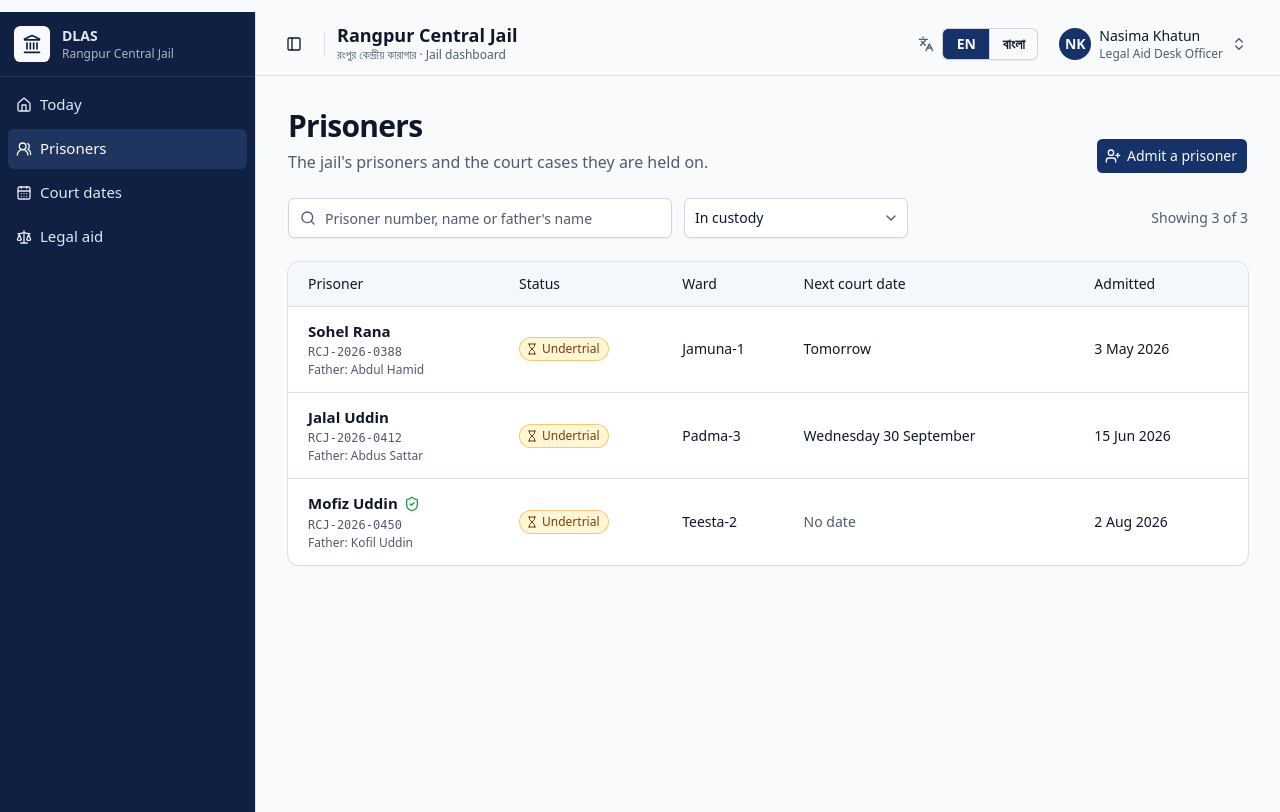
Test: the prisoner register › filters by status
Expected: the table is shown, [288,262,1248,565]
Click the dropdown named "Show" at (796, 218), box [684,198,908,238]
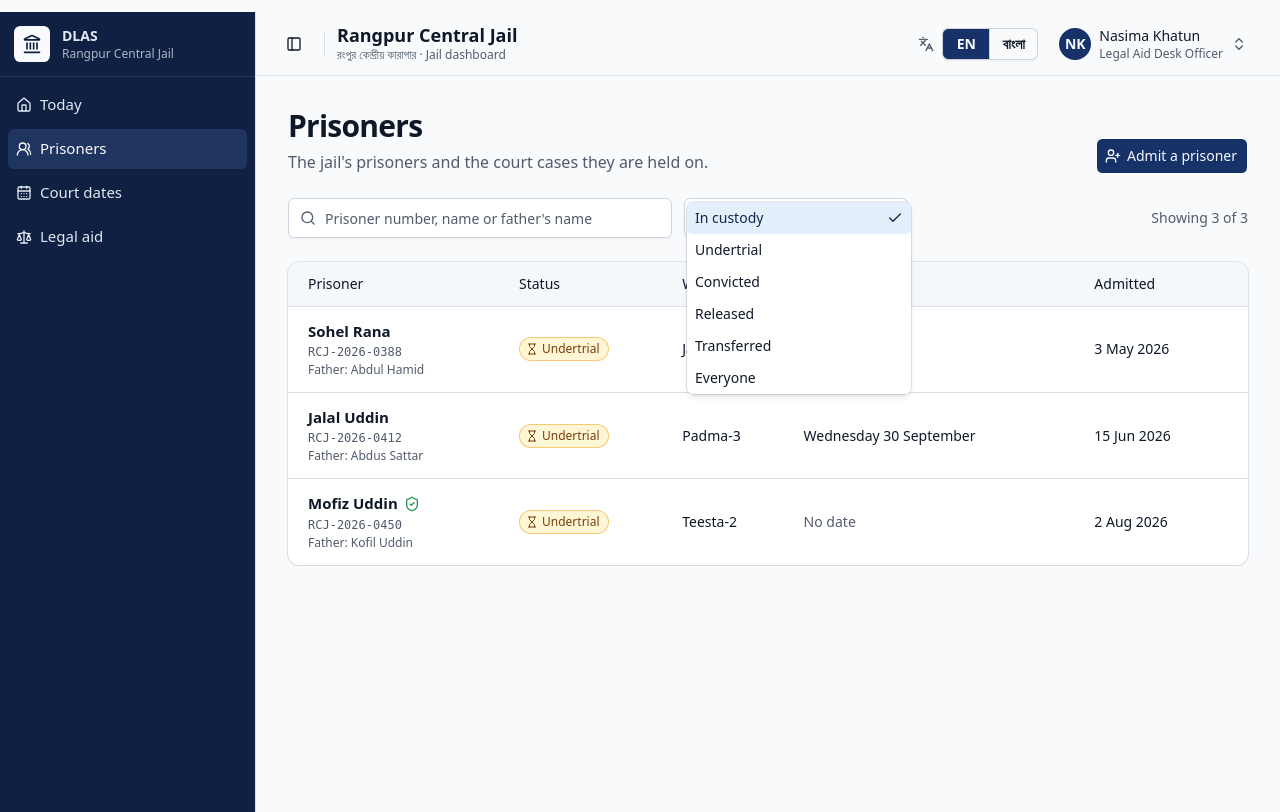
Click the option "Released" at (725, 314), box [695,304,754,323]
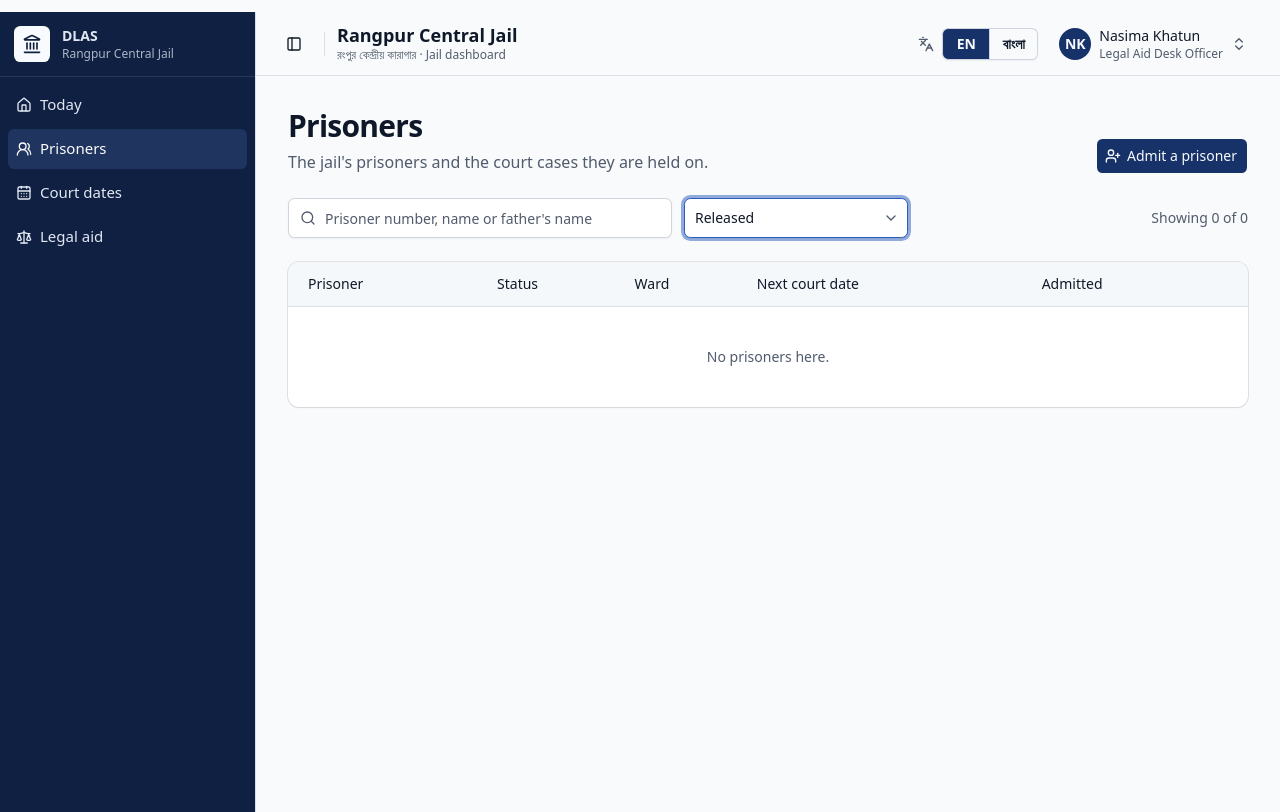
Now the text "No prisoners here." is shown, box [288,306,1248,406]
